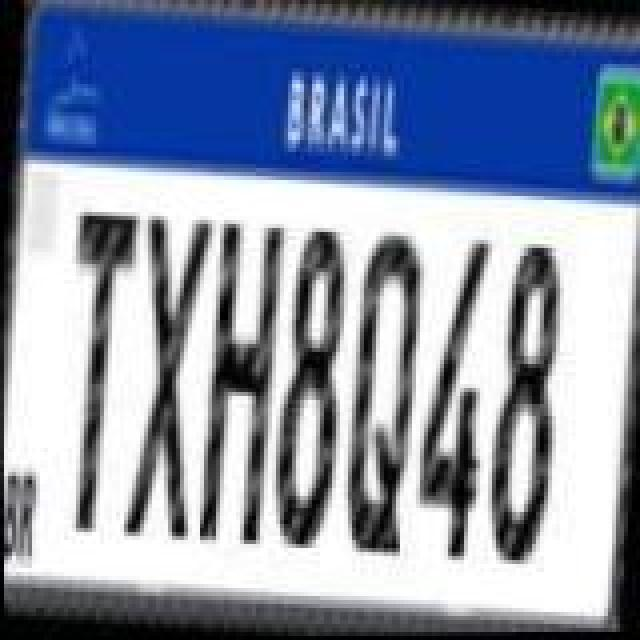4: (412, 230, 500, 562)
8: (266, 220, 358, 556), (478, 236, 570, 568)
H: (194, 218, 286, 550)
Q: (340, 232, 428, 564)
T: (54, 204, 142, 536)
X: (122, 210, 214, 542)
